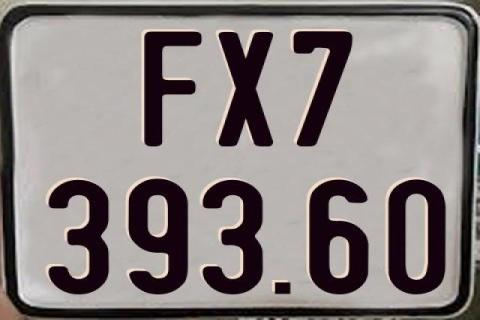0: (47, 179, 112, 297), (128, 178, 194, 294), (200, 178, 261, 296), (307, 180, 369, 296), (290, 31, 350, 147), (386, 178, 446, 294)
F: (141, 30, 203, 146)
X: (218, 31, 277, 151)
